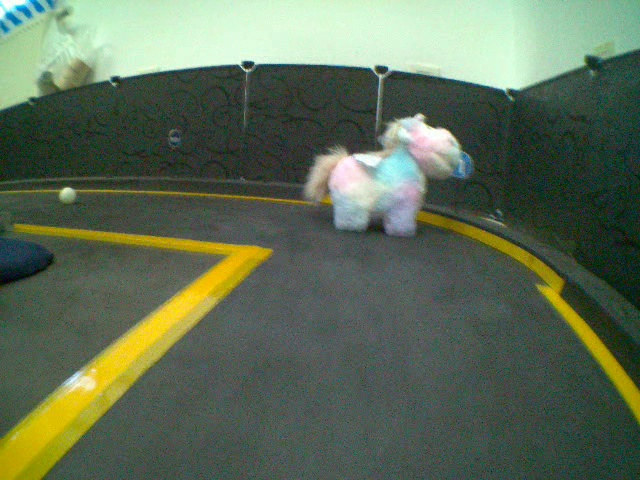unicorn: (302, 113, 461, 237)
